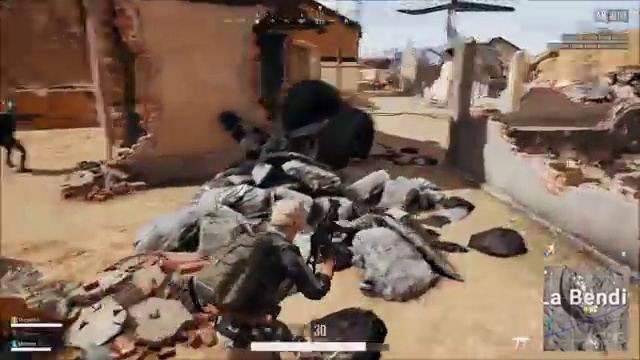Player: (168, 192, 372, 327), (2, 100, 43, 183)
